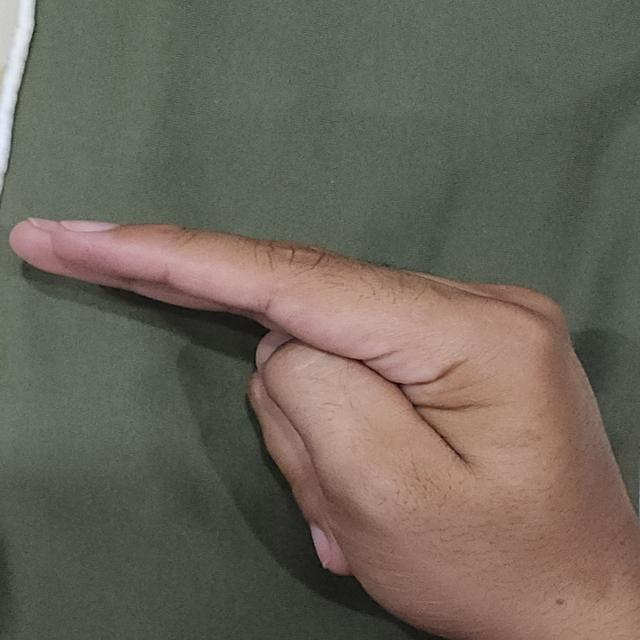ا: (7, 192, 640, 640)
